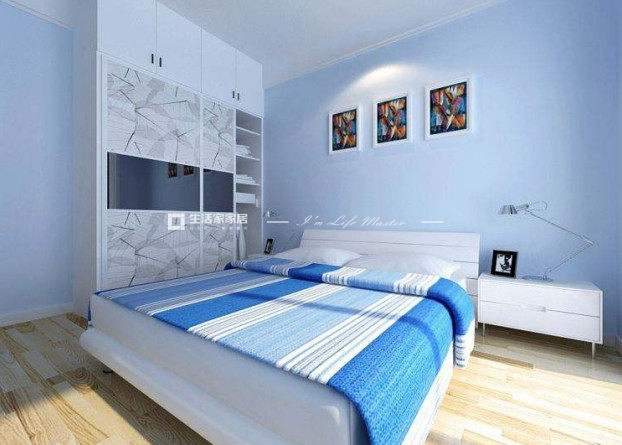床: (89, 259, 465, 440)
枕头: (278, 245, 466, 285)
灯: (498, 193, 595, 282)
